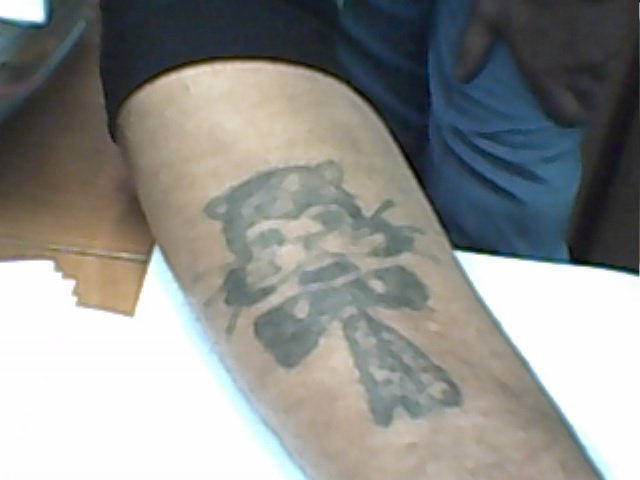tatu8_kot: (197, 155, 471, 436)
